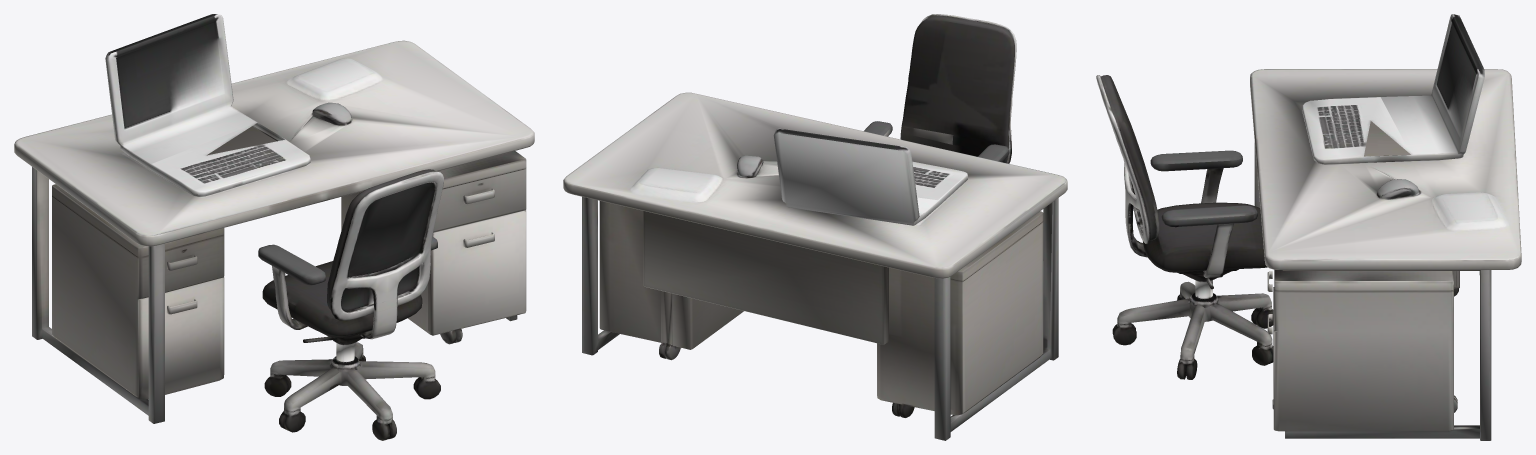
The model's file is Furniture__office_desk_realistic_style_22da1241_v1.cluster.glb.
3 renders of one model, left to right at view 1: azimuth 30°, elevation 25°; view 2: azimuth 150°, elevation 25°; view 3: azimuth 270°, elevation 25°, orthographic. The views are drawn at different scales.
Parts seen in each view (by area): view 1: texture_pbr_20250901; view 2: texture_pbr_20250901; view 3: texture_pbr_20250901.
Boxes of the visible parts, x1,y1,x2,y2 form: texture_pbr_20250901: (14, 14, 534, 440); texture_pbr_20250901: (563, 14, 1067, 440); texture_pbr_20250901: (1096, 14, 1521, 440).
Bounding box in the file's own units: 1.9 × 1.29 × 1.78.
1 material, 1 textured.
